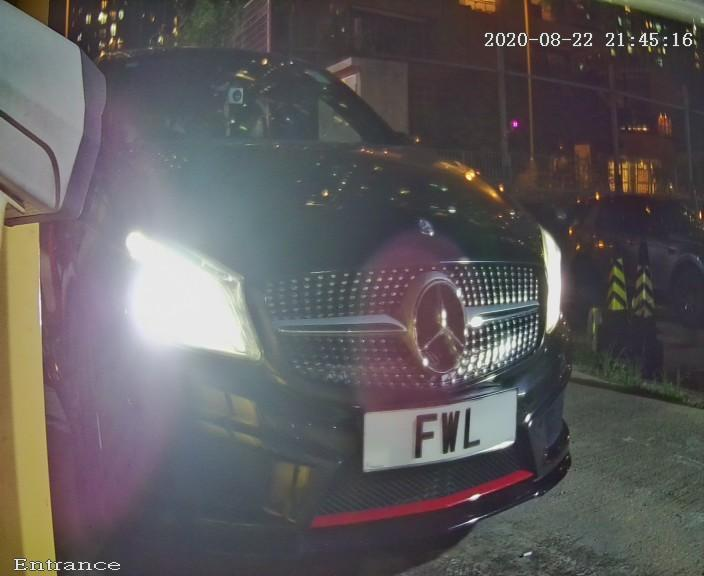Car: (4, 3, 635, 576)
License Plate: (333, 369, 547, 497)
